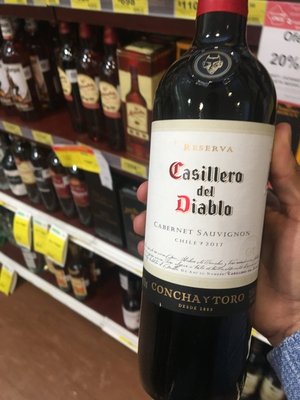casillero del diablo cabernet sauvignon: (141, 5, 277, 400)
